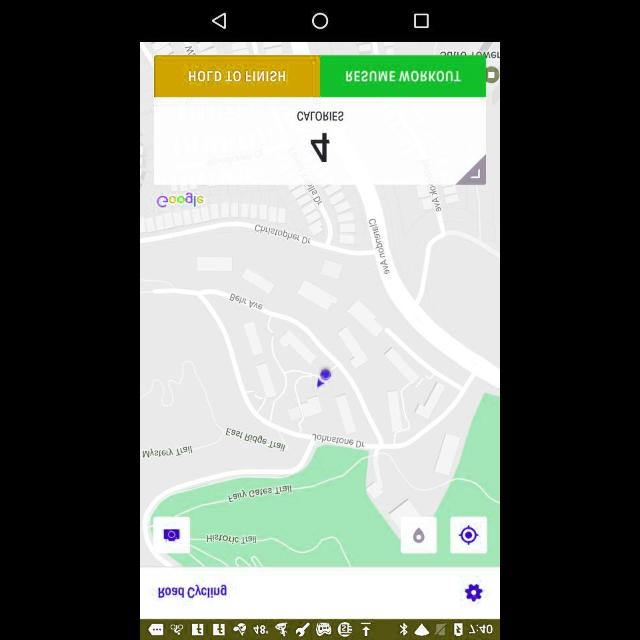icon: (460, 524, 480, 546), (464, 582, 484, 602), (310, 11, 330, 29), (212, 10, 228, 30), (414, 12, 431, 30), (162, 528, 180, 542), (411, 525, 425, 543)
map: (142, 188, 498, 566)
panel: (155, 56, 485, 184), (140, 1, 500, 41)
text: (288, 106, 352, 166), (155, 582, 229, 602), (188, 70, 286, 82), (345, 70, 461, 80)
textbutton: (320, 55, 484, 97), (154, 57, 320, 97)
uppertaskbar: (141, 619, 499, 639)
